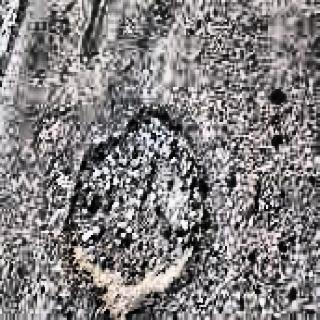pothole: (50, 112, 212, 296)
